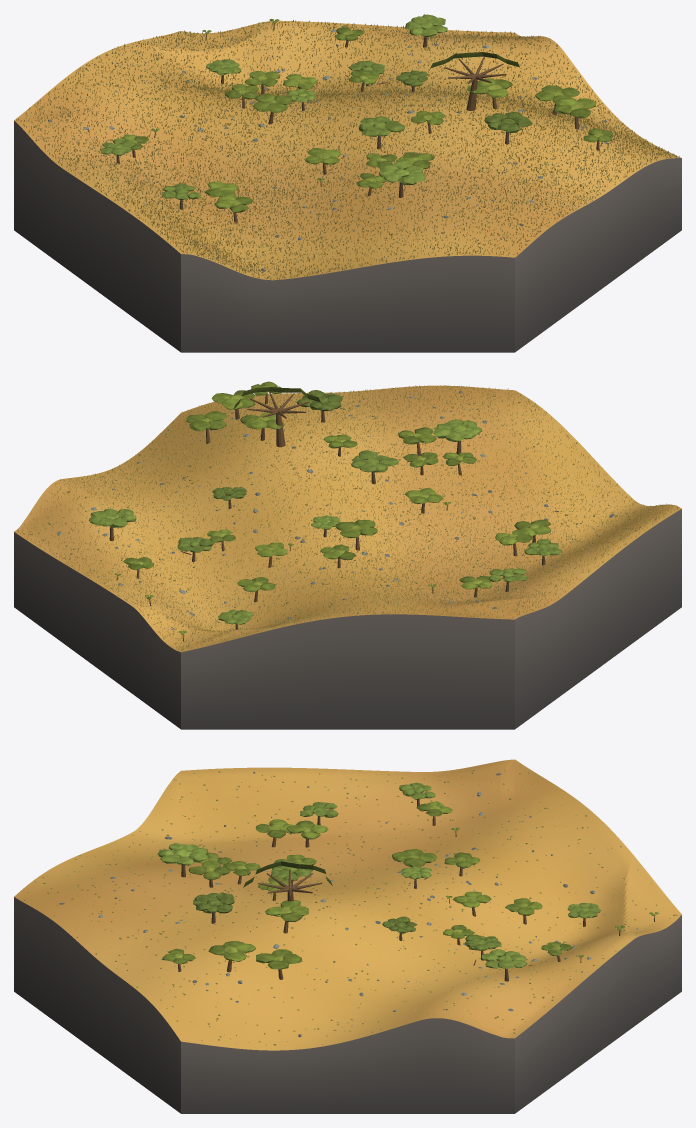
3 views of the same model, one above another, from view 1: azimuth 30°, elevation 25°; view 2: azimuth 150°, elevation 25°; view 3: azimuth 270°, elevation 25° (orthographic).
Visible parts, largest first — view 1: terrain, hex_side_cut, wildflowers, broadleaf_canopy, shrubs, trunks, boulders, branches; view 2: terrain, hex_side_cut, wildflowers, broadleaf_canopy, shrubs, trunks, boulders, branches; view 3: terrain, hex_side_cut, broadleaf_canopy, shrubs, trunks, boulders.
Part boxes in pixels (x1=…): terrain: x1=14, y1=20, x2=680, y2=280; hex_side_cut: x1=14, y1=121, x2=681, y2=352; wildflowers: x1=16, y1=20, x2=679, y2=279; broadleaf_canopy: x1=100, y1=14, x2=612, y2=212; shrubs: x1=33, y1=22, x2=668, y2=276; trunks: x1=116, y1=23, x2=599, y2=222; boulders: x1=48, y1=27, x2=607, y2=271; branches: x1=173, y1=57, x2=516, y2=243; terrain: x1=14, y1=385, x2=681, y2=652; hex_side_cut: x1=14, y1=509, x2=681, y2=729; wildflowers: x1=17, y1=385, x2=679, y2=650; broadleaf_canopy: x1=89, y1=381, x2=562, y2=634; shrubs: x1=23, y1=386, x2=671, y2=650; trunks: x1=109, y1=394, x2=545, y2=641; boulders: x1=57, y1=389, x2=652, y2=641; branches: x1=119, y1=392, x2=558, y2=597; terrain: x1=14, y1=759, x2=681, y2=1050; hex_side_cut: x1=14, y1=897, x2=681, y2=1113; broadleaf_canopy: x1=158, y1=782, x2=658, y2=969; shrubs: x1=27, y1=765, x2=677, y2=1045; trunks: x1=178, y1=799, x2=654, y2=981; boulders: x1=24, y1=771, x2=653, y2=1037.
Bounding box in the file's own units: 4330 × 1327 × 5000.
